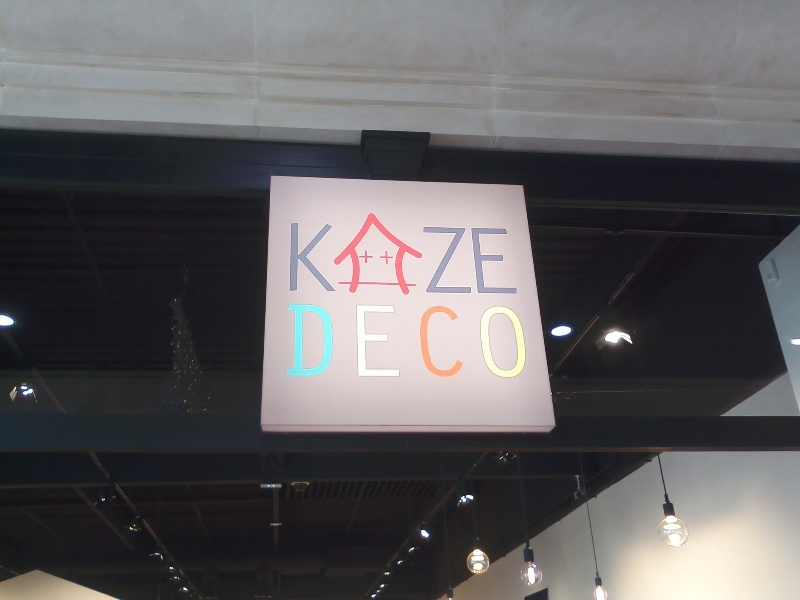text: (305, 211, 320, 296), (321, 211, 336, 296), (337, 211, 352, 296), (353, 211, 368, 296), (369, 211, 384, 296), (385, 211, 400, 296), (401, 211, 416, 296), (417, 211, 432, 296), (433, 211, 448, 296), (449, 211, 464, 296), (465, 211, 480, 296), (481, 211, 496, 296), (497, 211, 512, 296), (513, 302, 529, 379), (290, 211, 304, 296), (289, 302, 304, 379), (305, 302, 320, 379), (321, 302, 336, 379), (337, 302, 352, 379), (353, 302, 368, 379), (369, 302, 384, 379), (385, 302, 400, 379), (401, 302, 416, 379), (417, 302, 432, 379), (433, 302, 448, 379), (449, 302, 464, 379), (465, 302, 480, 379), (481, 302, 496, 379), (497, 302, 512, 379), (513, 211, 519, 296)
